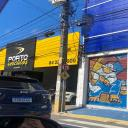NoEstacionar: (60, 64, 70, 71)
